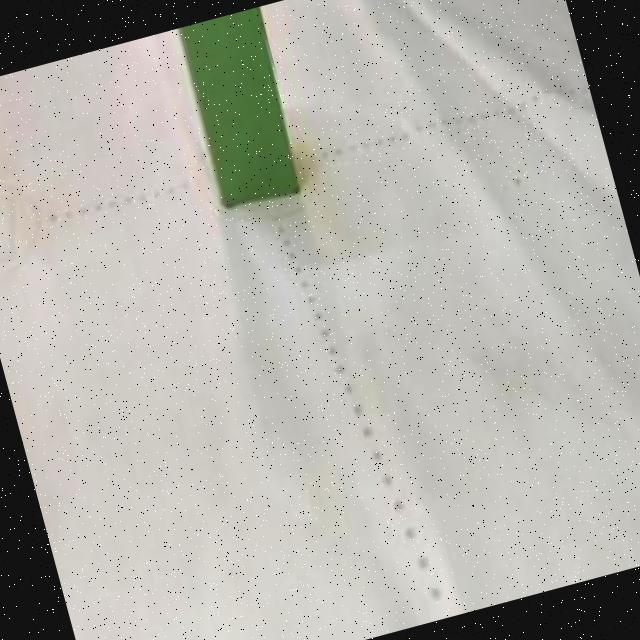greenbox: (170, 5, 310, 212)
